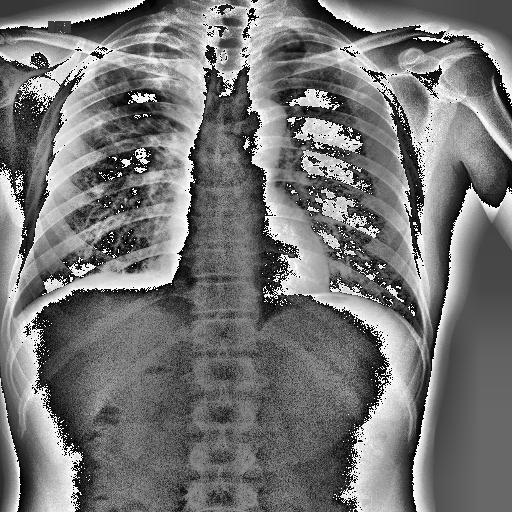11- Pleural thickening: (116, 25, 192, 41)
13- Pulmonary fibrosis: (71, 45, 177, 197), (77, 31, 201, 159), (80, 56, 170, 150), (271, 35, 373, 103), (270, 38, 366, 108)
6- Infiltration: (77, 31, 201, 159), (80, 56, 170, 150), (271, 35, 373, 103), (284, 44, 358, 116)
